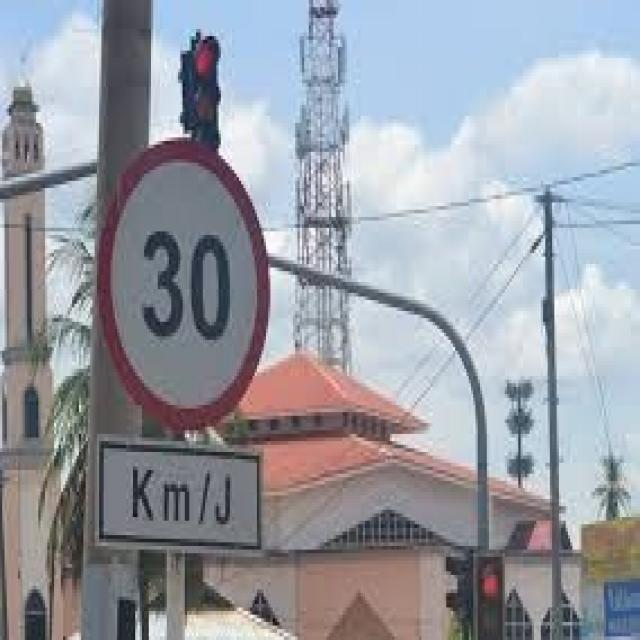speed_limit_30: (94, 136, 276, 426)
